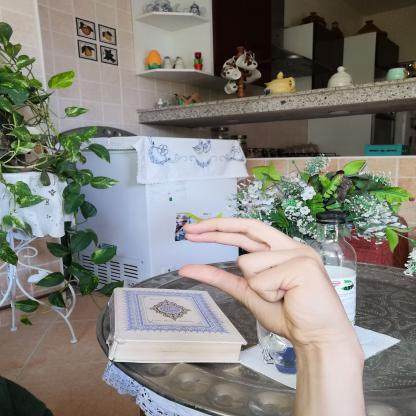DHELL: (168, 212, 361, 349)
